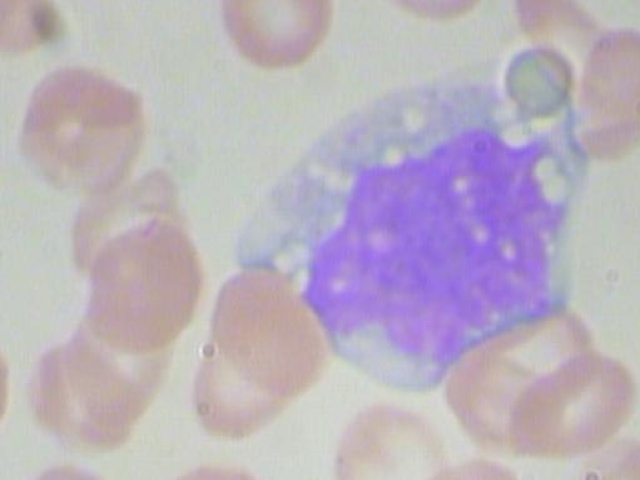RBC: (189, 257, 339, 402), (14, 55, 153, 200), (81, 211, 210, 352), (499, 345, 640, 474), (206, 0, 346, 85), (567, 15, 640, 158), (362, 0, 488, 21), (16, 460, 126, 480)
WBC: (214, 63, 603, 396)
